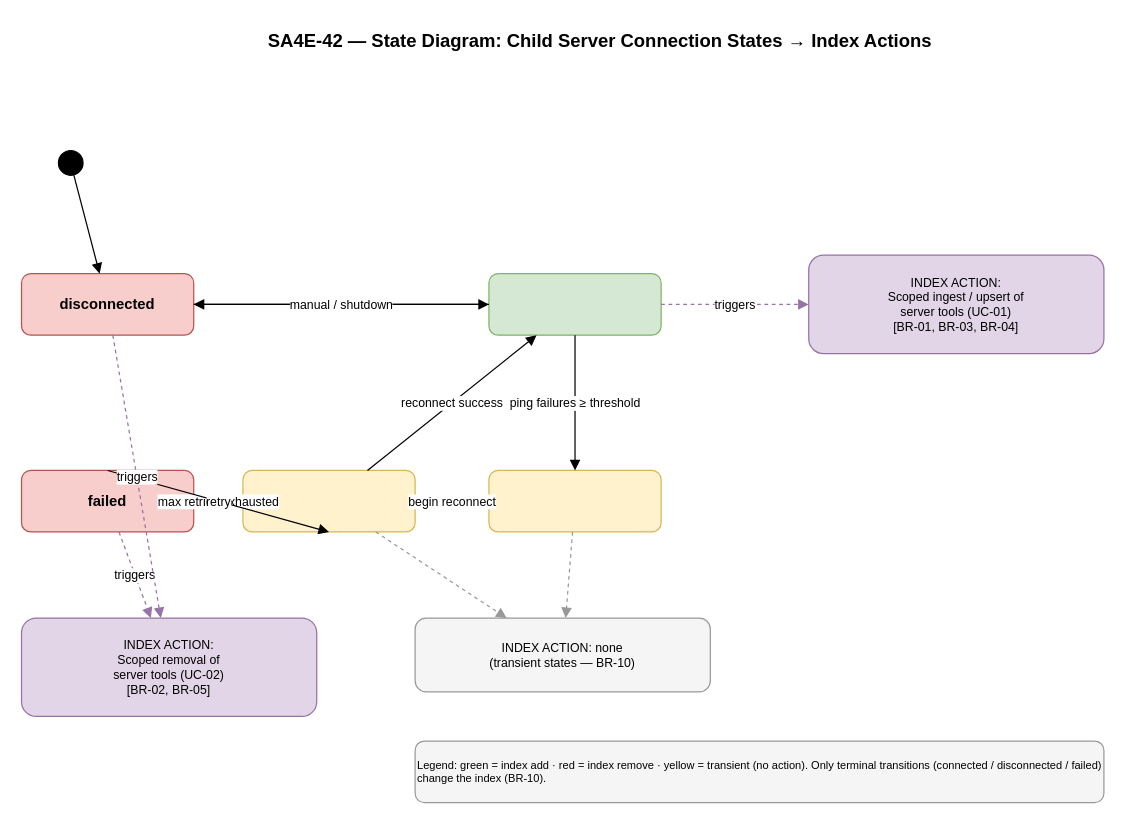
Image size: 1125x824. Some labels were removed from this diagram. Each missing label, with the box of its shape:
connected: (488, 272, 661, 335)
reconnecting: (242, 469, 415, 532)
unhealthy: (488, 469, 661, 532)
